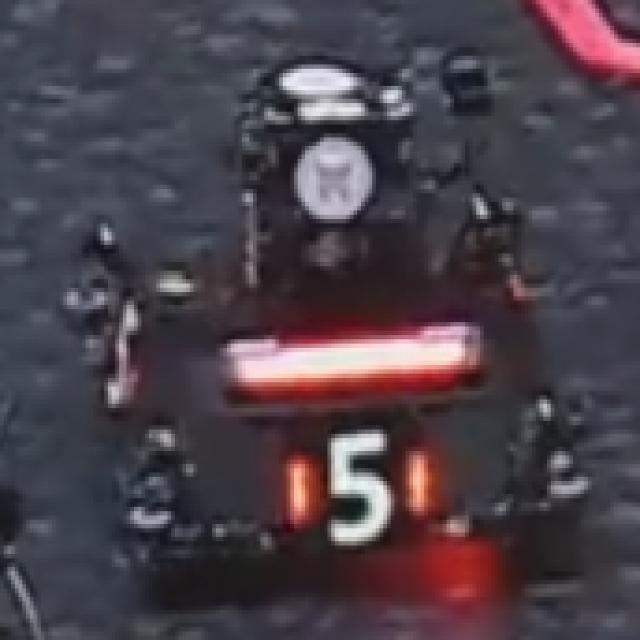R5: (286, 430, 428, 532)
